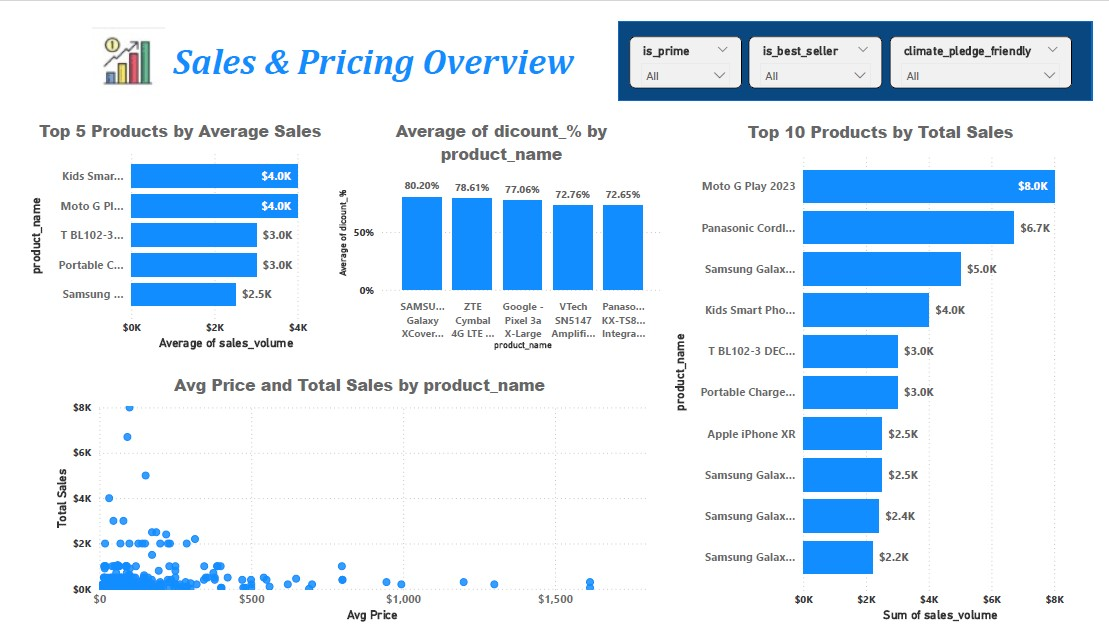

Layout of this report page (visuals, bound fields, positions):
{"tool":"powerbi","page":{"name":"Sales & Pricing","canvas":[1280,720],"ordinal":1},"visuals":[{"type":"shape","box":[715.5,0,564.5,95.4],"z":0},{"type":"clusteredBarChart","title":"Top 5 Products by Average Sales","fields":{"Category":["phone search.product_name"],"Y":["Avg(phone search.sales_volume)"]},"box":[9.9,117.3,367.7,278.3],"z":1000},{"type":"barChart","title":"Top 10 Products by Total Sales","fields":{"Category":["phone search.product_name"],"Y":["Sum(phone search.sales_volume)"]},"box":[775.8,117.9,504.2,602],"z":2000},{"type":"group","id":"g1","title":"Group 2","box":[78.7,3.5,598.9,92],"z":3000},{"type":"columnChart","fields":{"Category":["phone search.product_name"],"Y":["Avg(phone search.dicount_%)"]},"box":[377.6,117.3,397.5,278.3],"z":4000},{"type":"scatterChart","fields":{"X":["KPI_Measures.Avg Price"],"Y":["KPI_Measures.Total Sales"],"Category":["phone search.product_name"]},"box":[39.8,419.4,735.4,300.1],"z":5000},{"type":"slicer","fields":{"Values":["phone search.is_prime"]},"box":[729.4,17.9,133.2,61.6],"z":6000},{"type":"textbox","box":[169.9,17.8,507.7,75.1],"z":7000,"group":"g1"},{"type":"slicer","fields":{"Values":["phone search.is_best_seller"]},"box":[870.5,17.9,159,61.6],"z":7000},{"type":"image","box":[78.7,3.5,106.7,92],"z":8000,"group":"g1"},{"type":"slicer","fields":{"Values":["phone search.climate_pledge_friendly"]},"box":[1039.5,17.9,216.6,61.6],"z":8000}]}

Visuals, with their boxes in screenshot pixels (x1, y1, x2, y2), scaled from the page's 1280x720 canvas onto the 1109x642 screenshot:
shape: rect(620, 0, 1108, 85)
"Top 5 Products by Average Sales" clusteredBarChart: rect(9, 105, 327, 353)
"Top 10 Products by Total Sales" barChart: rect(672, 105, 1108, 641)
"Group 2" group: rect(68, 3, 587, 85)
columnChart - phone search.product_name x Avg(phone search.dicount_%): rect(327, 105, 672, 353)
scatterChart - KPI_Measures.Avg Price x KPI_Measures.Total Sales: rect(34, 374, 672, 641)
slicer - phone search.is_prime: rect(632, 16, 747, 71)
textbox: rect(147, 16, 587, 83)
slicer - phone search.is_best_seller: rect(754, 16, 892, 71)
image: rect(68, 3, 161, 85)
slicer - phone search.climate_pledge_friendly: rect(901, 16, 1088, 71)
